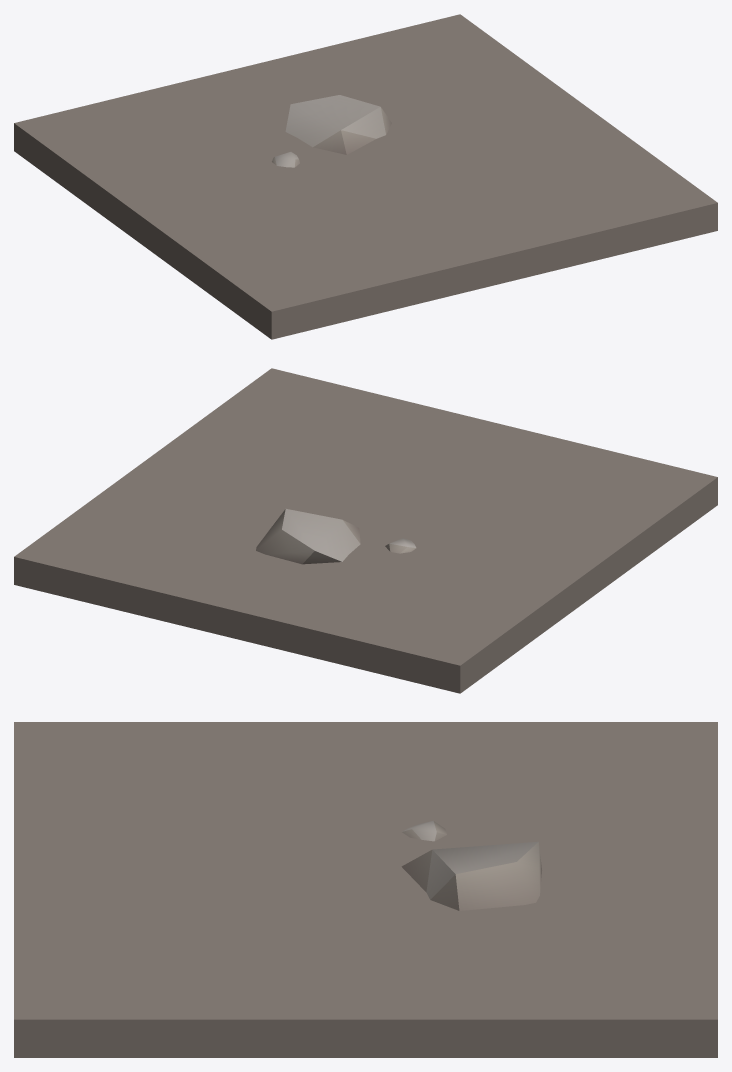
File: floor_dirt_small_C.gltf
3 renders of one model, top to bottom at view 1: azimuth 30°, elevation 25°; view 2: azimuth 150°, elevation 25°; view 3: azimuth 270°, elevation 25°, orthographic. The views are drawn at different scales.
Parts seen in each view (by area): view 1: floor_dirt_small_C; view 2: floor_dirt_small_C; view 3: floor_dirt_small_C.
Boxes of the visible parts, left/top/right/bottom form: floor_dirt_small_C: left=14, top=14, right=717, bottom=339; floor_dirt_small_C: left=14, top=368, right=717, bottom=693; floor_dirt_small_C: left=14, top=722, right=717, bottom=1057.
Bounding box in the file's own units: 2 × 0.2086 × 2.
1 material, 1 textured.
